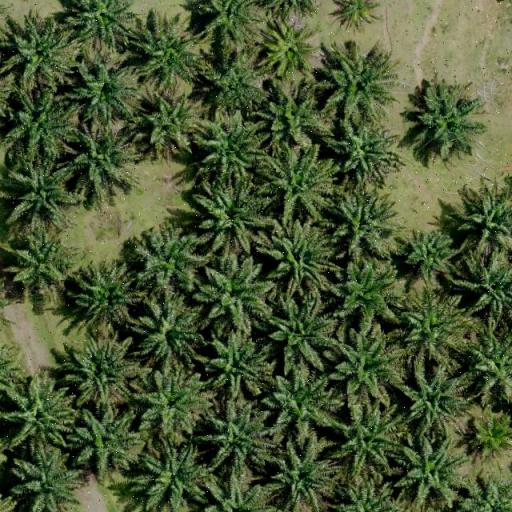Ganoderma: (271, 31, 310, 66), (476, 415, 510, 448), (346, 1, 374, 24)
